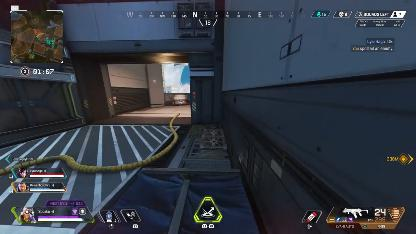Target: (180, 99, 182, 105)
